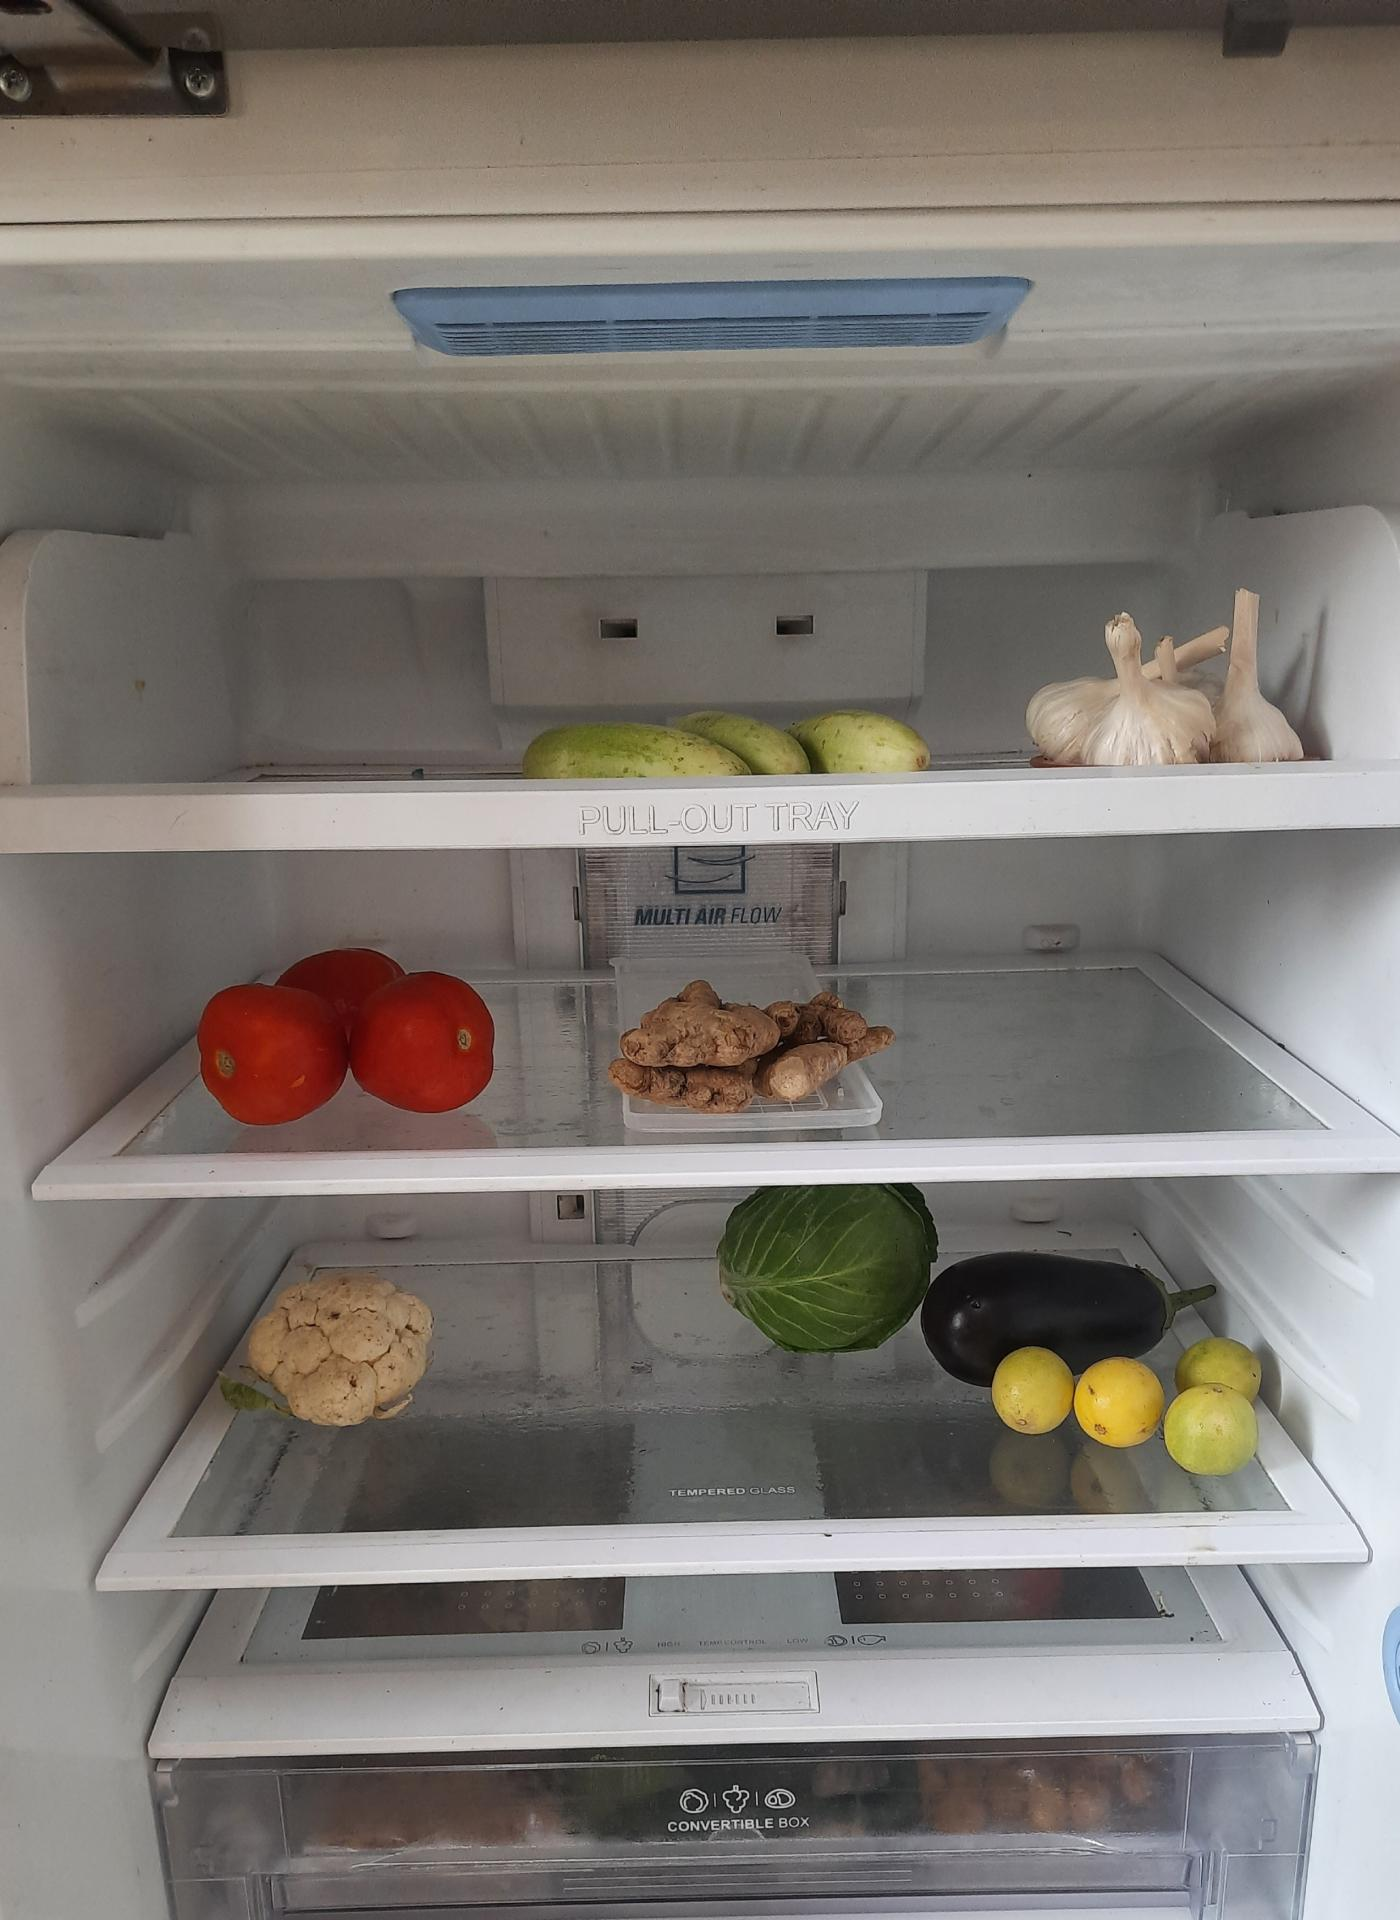brinjal: (927, 1248, 1218, 1368)
cabbage: (716, 1184, 938, 1355)
cauliflower: (219, 1263, 440, 1430)
cucumber: (517, 693, 948, 786)
garlic: (1023, 586, 1330, 774)
ginger: (605, 973, 899, 1114)
lemon: (986, 1330, 1270, 1473)
tomato: (203, 941, 496, 1122)
